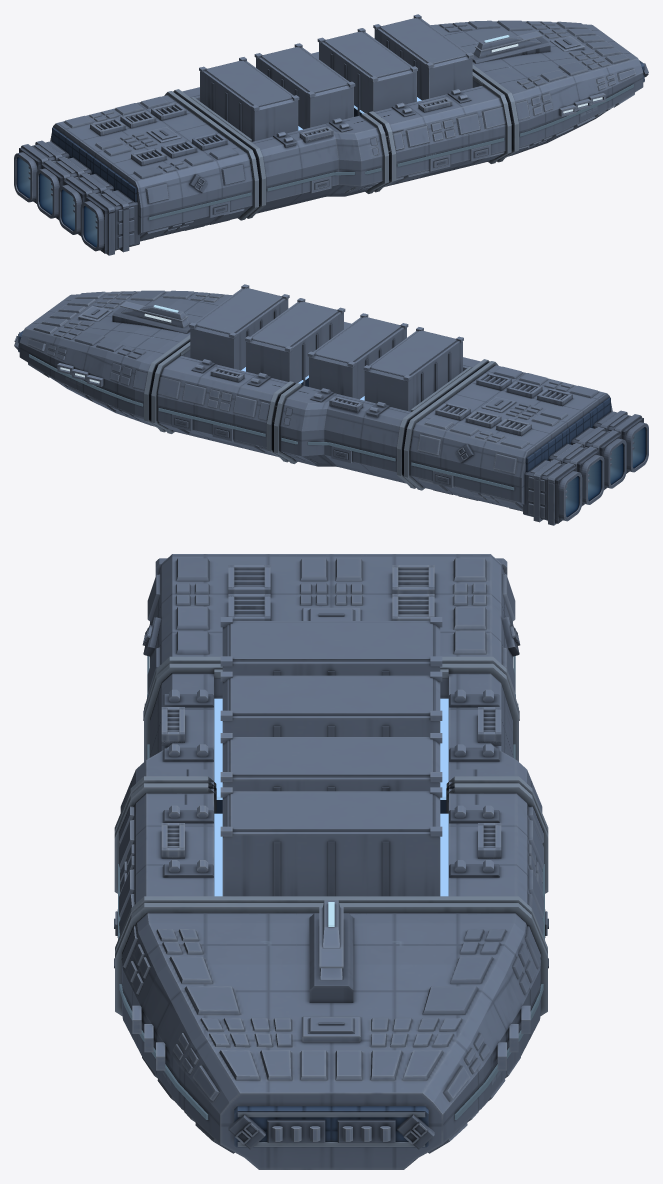
3 renders of one model, top to bottom at view 1: azimuth 30°, elevation 25°; view 2: azimuth 150°, elevation 25°; view 3: azimuth 270°, elevation 25°, orthographic. The views are drawn at different scales.
Visible parts, largest first — view 1: O2_37; view 2: O2_37; view 3: O2_37.
Part boxes in pixels (x1,y1,x2,y2): O2_37: (14,14,648,255); O2_37: (14,284,648,525); O2_37: (114,554,548,1169).
Bounding box in the file's own units: 1 × 0.1803 × 0.3307.
16 materials, 4 textured.
